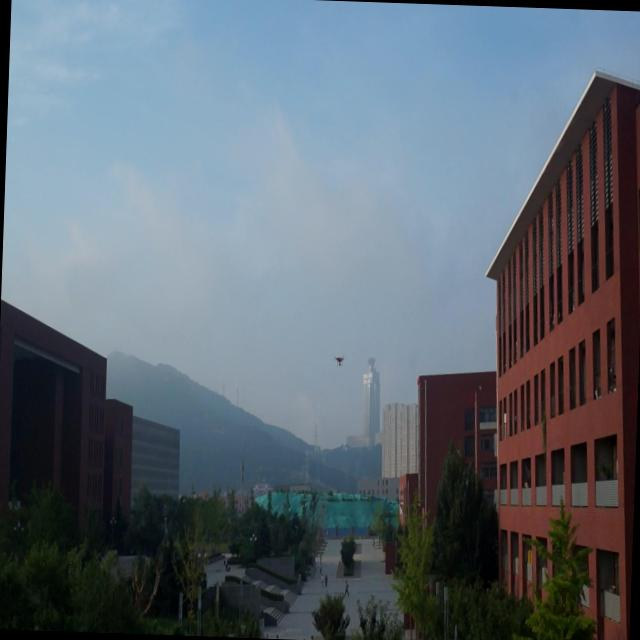drone: (332, 354, 343, 364)
